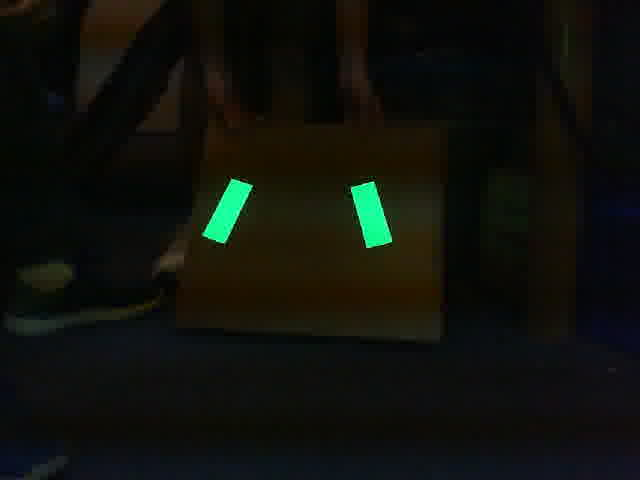target: (199, 176, 394, 252)
